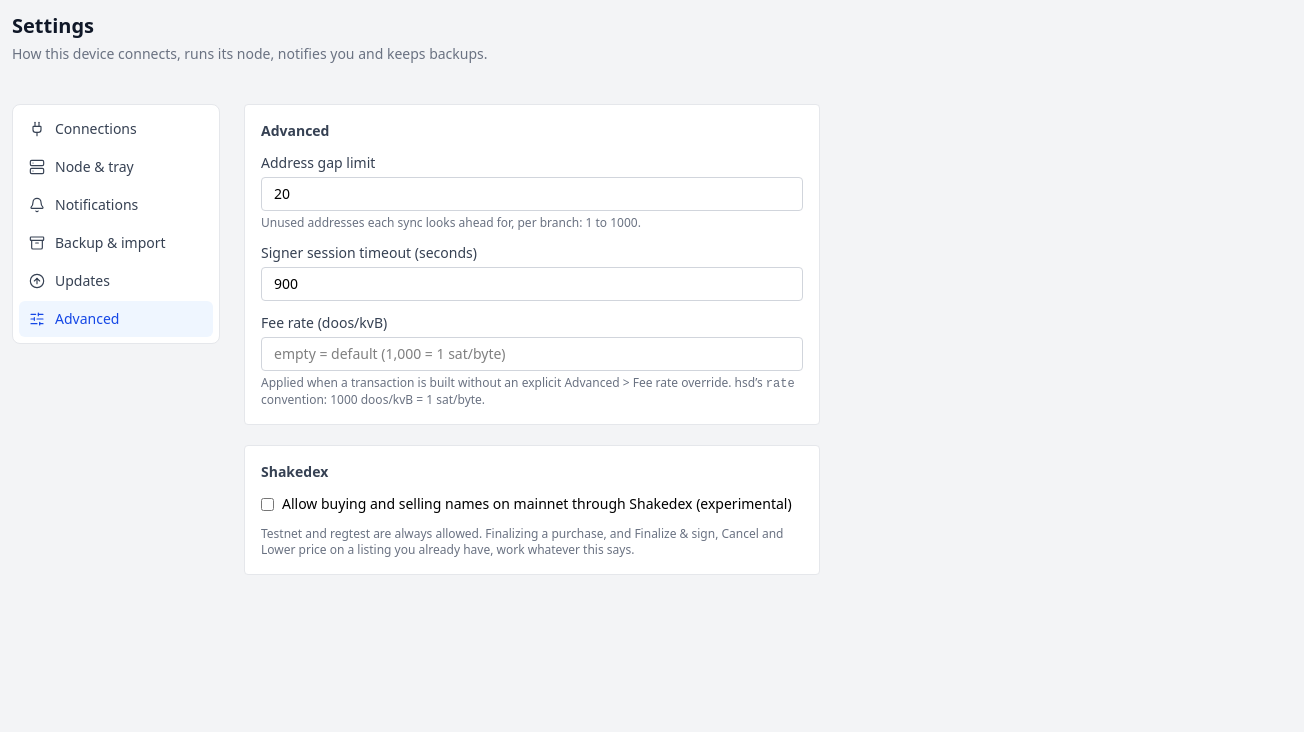
Test: Settings — Address gap limit › refuses 0 with the range and disables Save
This screenshot has width=1304, height=732.
In the field with test id "settings-gap-limit": (532, 194) [261,177,803,211], type "0"
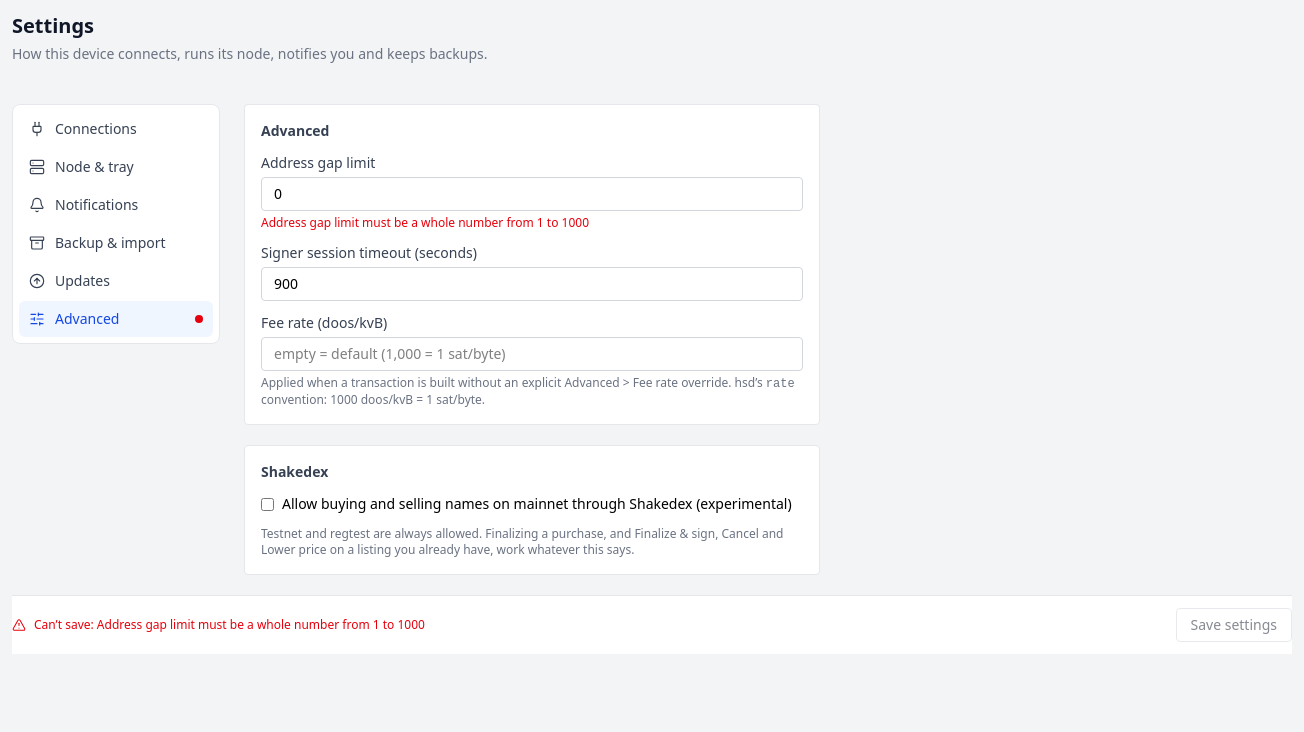
Now the text "Address gap limit must be a whole number from 1 to 1000" is shown, box [261,214,589,231]
Now the button with test id "settings-save" is disabled, box [1176,608,1292,642]
